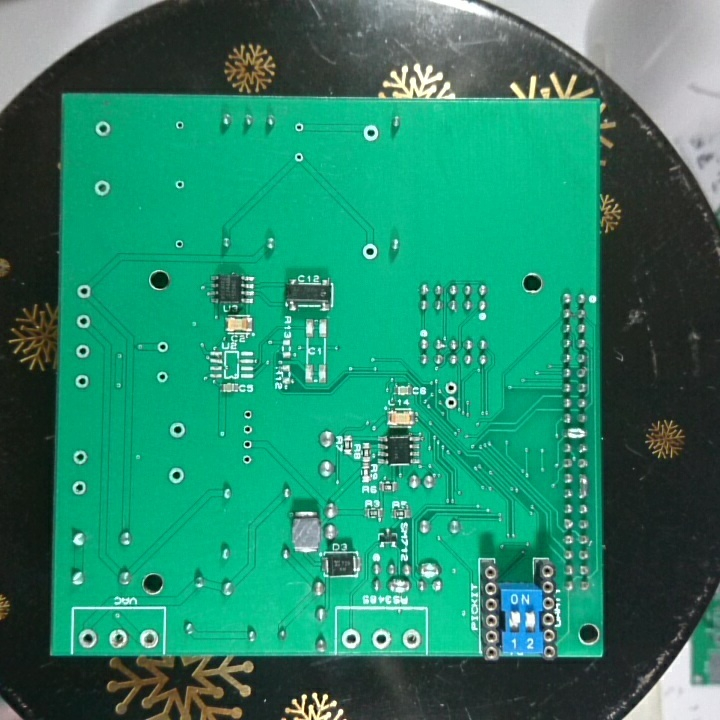F: (137, 625, 160, 651), (369, 626, 392, 651), (359, 120, 383, 143), (339, 626, 362, 650), (105, 626, 128, 649), (400, 626, 422, 650), (77, 626, 98, 650), (359, 240, 380, 263), (92, 118, 113, 139), (92, 178, 113, 199), (70, 446, 90, 468), (71, 341, 93, 360), (167, 418, 186, 439), (74, 311, 93, 331), (167, 465, 185, 486), (69, 478, 88, 496), (74, 280, 91, 300), (73, 372, 91, 389), (239, 435, 257, 452), (442, 394, 459, 411), (238, 421, 255, 437), (239, 452, 255, 469), (442, 378, 459, 394), (154, 367, 168, 386), (291, 119, 307, 135), (155, 339, 169, 356), (173, 177, 187, 192), (291, 149, 305, 164), (241, 407, 255, 421), (173, 118, 186, 132), (172, 238, 185, 252)
P: (417, 558, 443, 579), (386, 576, 411, 595), (562, 425, 588, 443), (576, 472, 591, 502)
